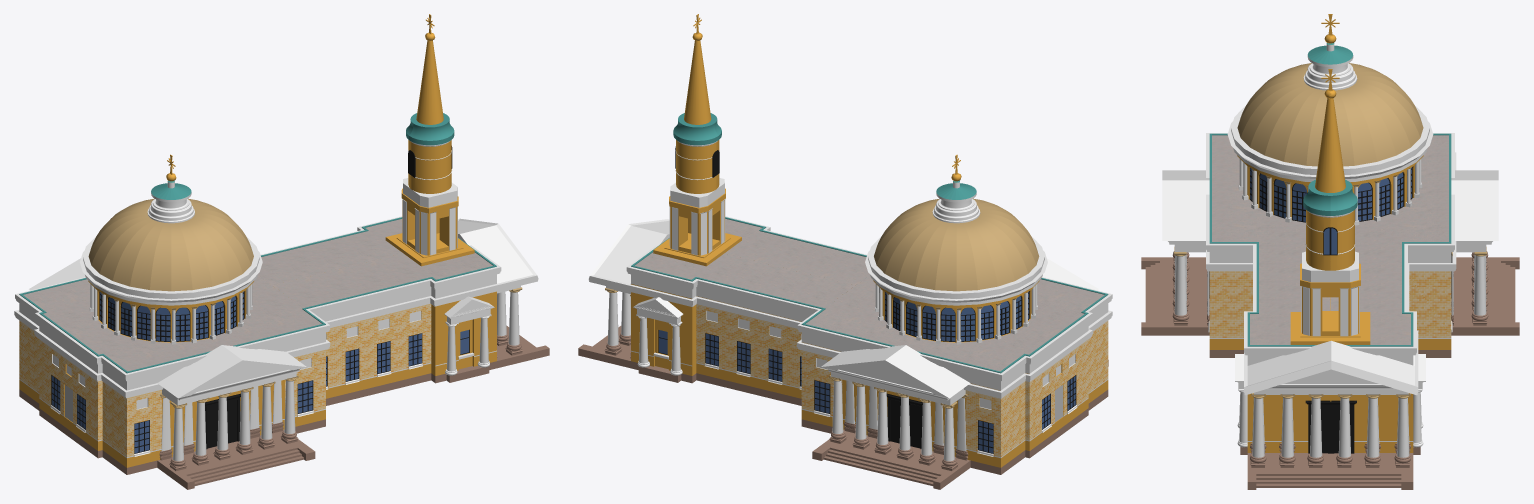
Rendered from Tserkov-Preobrazhenka.glb.
3 renders of one model, left to right at view 1: azimuth 30°, elevation 25°; view 2: azimuth 150°, elevation 25°; view 3: azimuth 270°, elevation 25°, orthographic. The views are drawn at different scales.
Visible parts, largest first — view 1: root; view 2: root; view 3: root.
Boxes of the visible parts, box(x1,y1,x2,y2) form: root: box(14, 14, 549, 489); root: box(578, 14, 1112, 489); root: box(1141, 14, 1519, 489).
Bounding box in the file's own units: 49.75 × 35.53 × 32.47.
10 materials, 2 textured.
